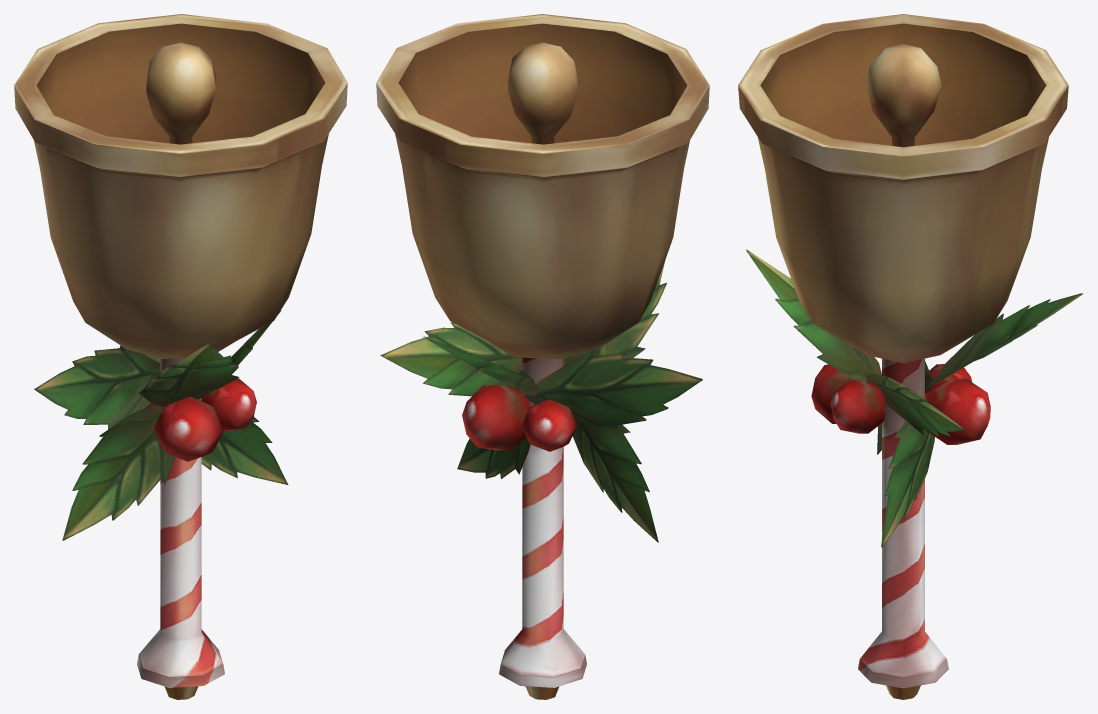
Rendered from Hero_Phillop_Cos17Christmas_Axe.fbx.
3 renders of one model, left to right at view 1: azimuth 30°, elevation 25°; view 2: azimuth 150°, elevation 25°; view 3: azimuth 270°, elevation 25°, orthographic.
Visible parts, largest first — view 1: Hero_Phillop_Cos17Christmas_Axe; view 2: Hero_Phillop_Cos17Christmas_Axe; view 3: Hero_Phillop_Cos17Christmas_Axe.
Part boxes in pixels (x1,y1,x2,y2): Hero_Phillop_Cos17Christmas_Axe: [14, 14, 347, 699]; Hero_Phillop_Cos17Christmas_Axe: [376, 14, 709, 699]; Hero_Phillop_Cos17Christmas_Axe: [738, 14, 1083, 699].
Bounding box in the file's own units: 0.6542 × 1.35 × 0.6546.
Materials: 1 (1 with a texture image).
